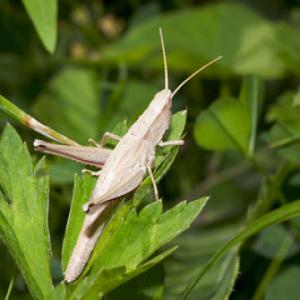locust: (53, 47, 224, 276)
